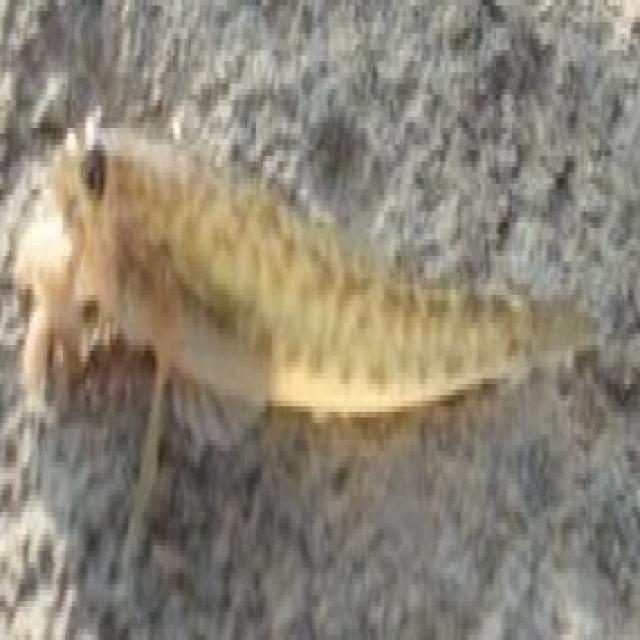Goby: (4, 11, 629, 572)
